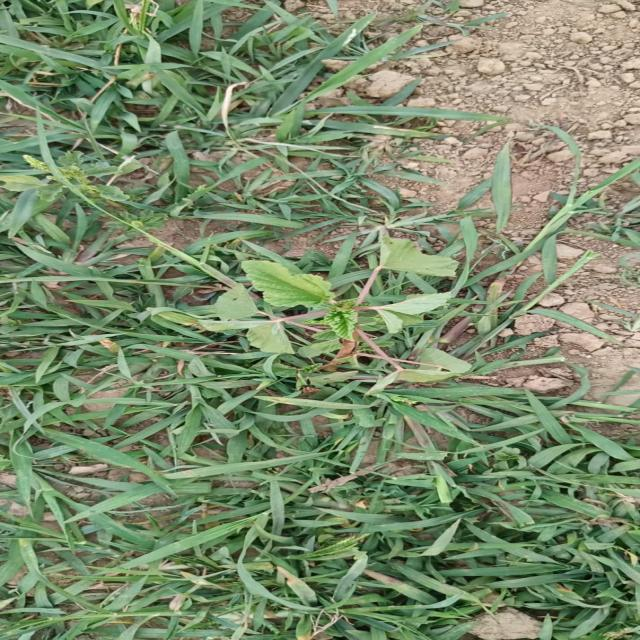plant: (155, 236, 470, 395)
